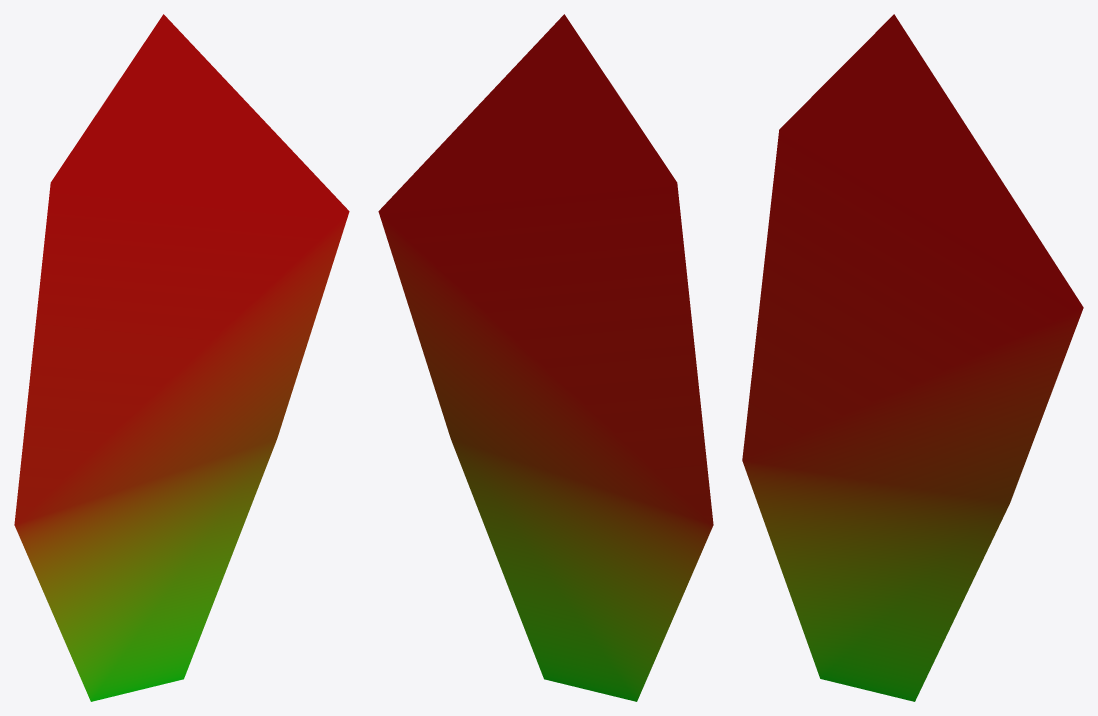
File: Var3_LOD3.fbx
3 renders of one model, left to right at view 1: azimuth 30°, elevation 25°; view 2: azimuth 150°, elevation 25°; view 3: azimuth 330°, elevation 25°, orthographic.
Parts seen in each view (by area): view 1: _c9a9_Var3_LOD3; view 2: _c9a9_Var3_LOD3; view 3: _c9a9_Var3_LOD3.
Boxes of the visible parts, bbox=[...] form: _c9a9_Var3_LOD3: bbox=[14, 14, 349, 701]; _c9a9_Var3_LOD3: bbox=[378, 14, 713, 701]; _c9a9_Var3_LOD3: bbox=[742, 14, 1083, 701].
Size of the model in its own units: 61.42 by 117 by 8.58e-06.
